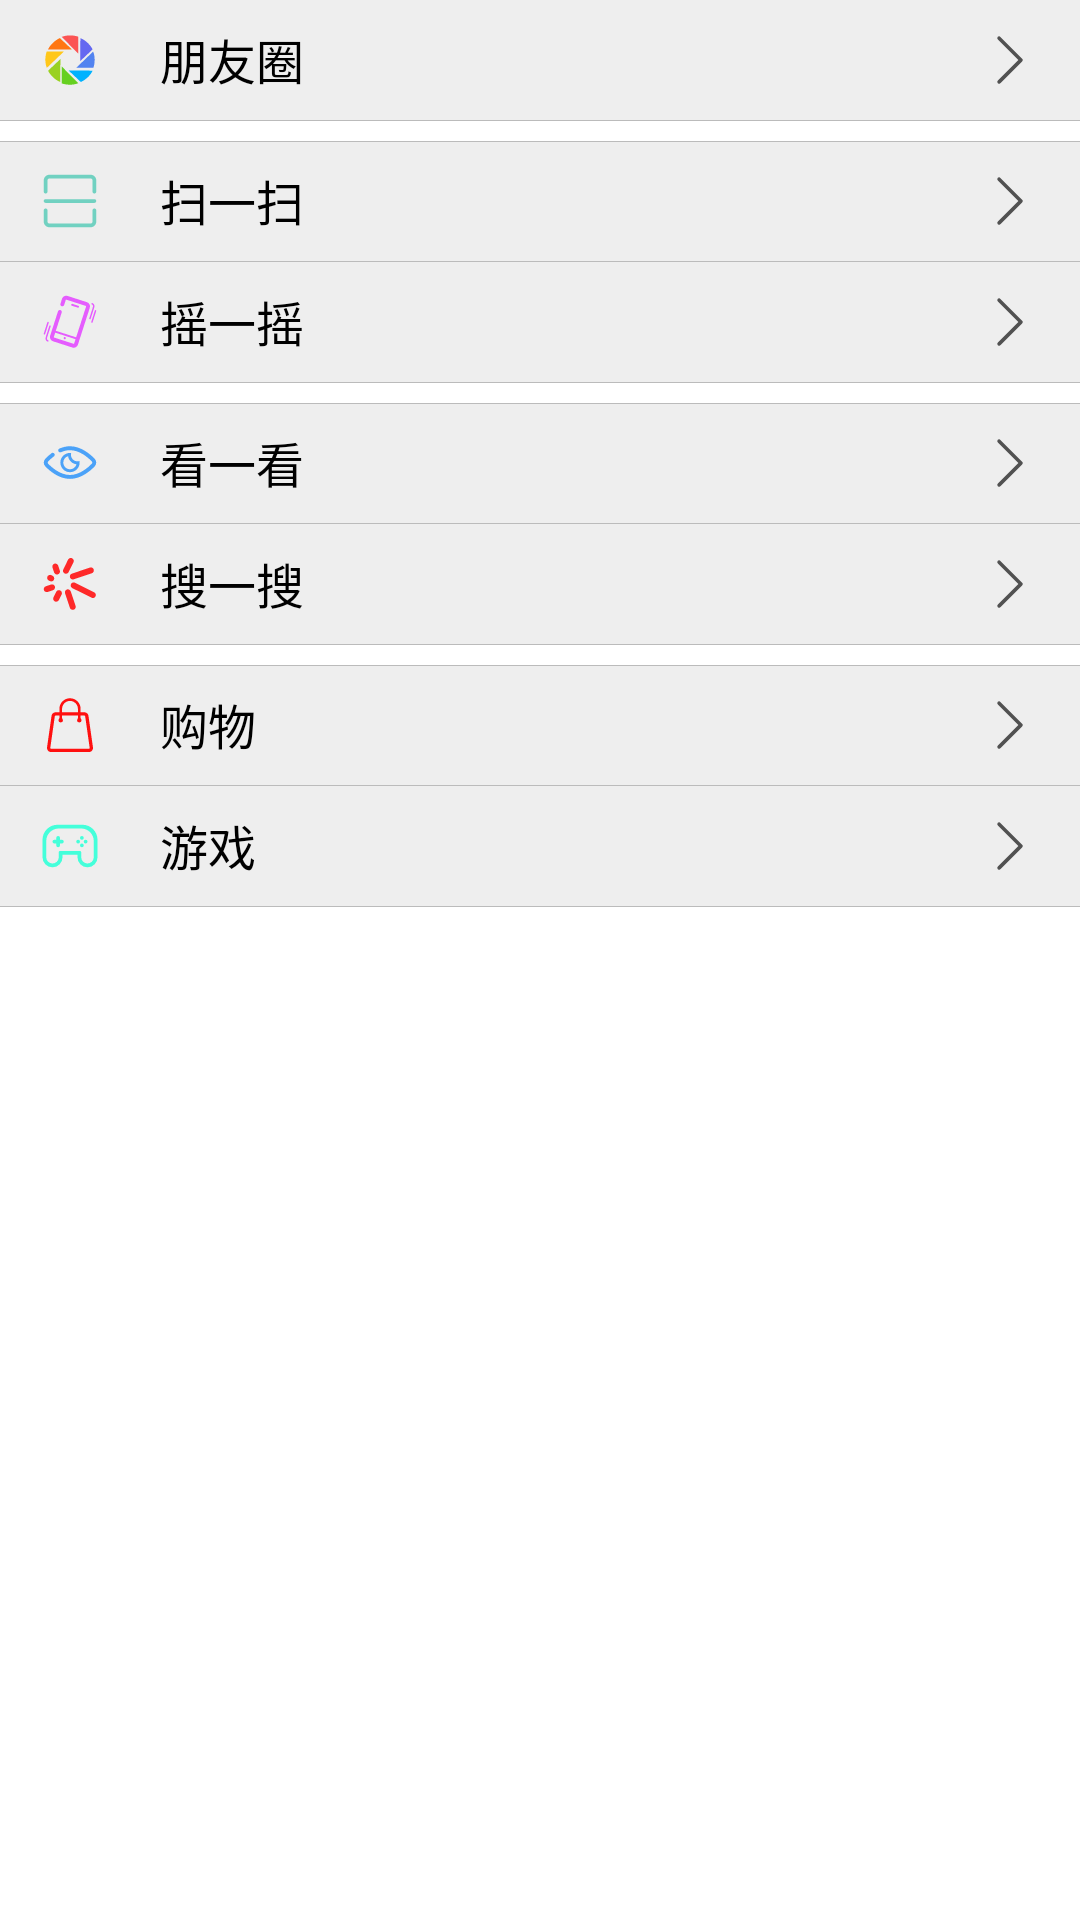

Screen size 1080px×1920px. Icon name, then its box in pixels as BBox(x1, y1, x2, y2):
game: BBox(42, 824, 98, 868)
look: BBox(43, 446, 97, 479)
right arrow: BBox(997, 36, 1023, 84), BBox(997, 177, 1023, 225), BBox(997, 298, 1023, 346), BBox(997, 439, 1023, 487), BBox(997, 560, 1023, 608), BBox(997, 701, 1023, 749), BBox(997, 822, 1023, 870)
scan: BBox(43, 174, 97, 228)
shake: BBox(43, 295, 96, 348)
shopping: BBox(47, 698, 93, 752)
